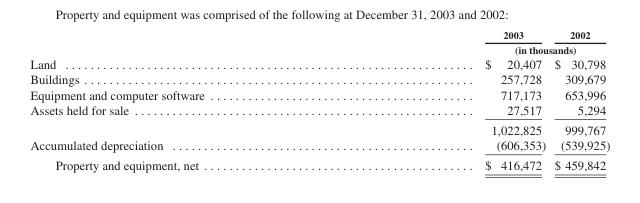table: (29, 28, 609, 172)
table column: (29, 28, 344, 172), (344, 28, 549, 172), (549, 28, 609, 172)
table column header: (29, 28, 609, 56)
table row: (29, 101, 609, 119), (29, 119, 609, 137), (29, 154, 609, 172), (29, 137, 609, 154), (29, 41, 609, 56), (29, 56, 609, 71), (29, 71, 609, 86), (29, 86, 609, 101), (29, 28, 609, 41)
table spanning cell: (344, 41, 609, 56)
